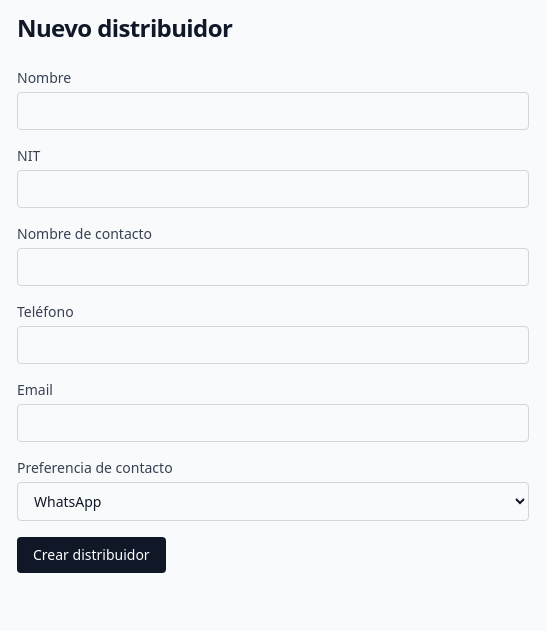
Test case: DistributorFormPage (DIST-1 · §S2 fila Distributor form) › campos obligatorios vacíos: errores inline y CERO requests (idea:198)
What coordinates should you click on to do the following:
click the button "Crear distribuidor"
I would click on:
 (91, 555)
Its box is 17,537 -> 166,573.
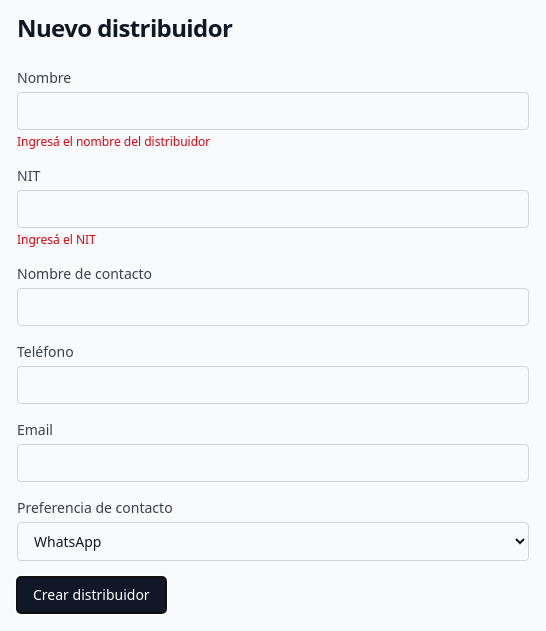
Expected: the text "Ingresá el nombre del distribuidor" is shown, 17,133 -> 210,150
Expected: the text "Ingresá el NIT" is shown, 17,231 -> 96,248
